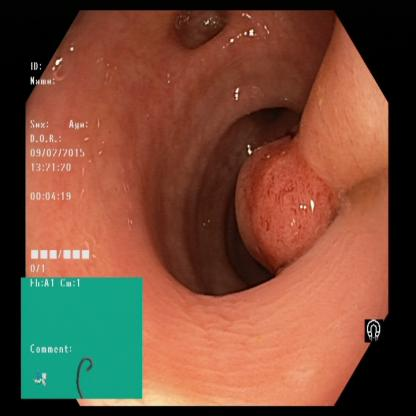Labels: (22, 56, 98, 276), (20, 280, 144, 403), (364, 309, 390, 348)
Polyps: (233, 136, 336, 276)
